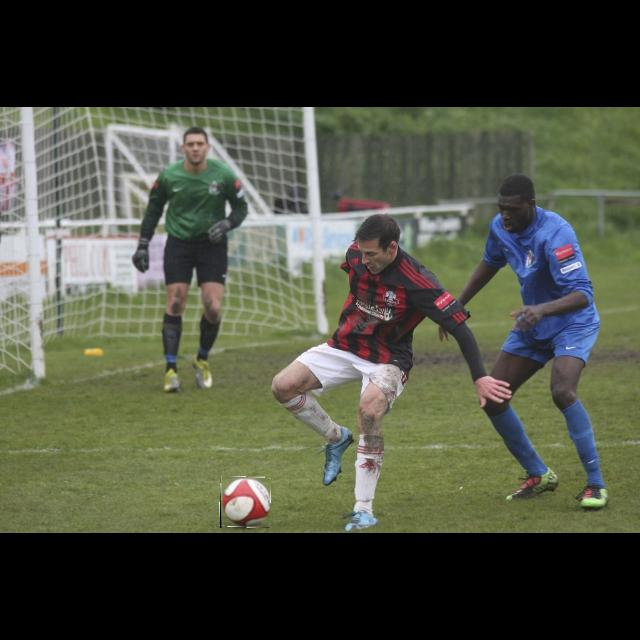Football: (220, 476, 270, 528)
